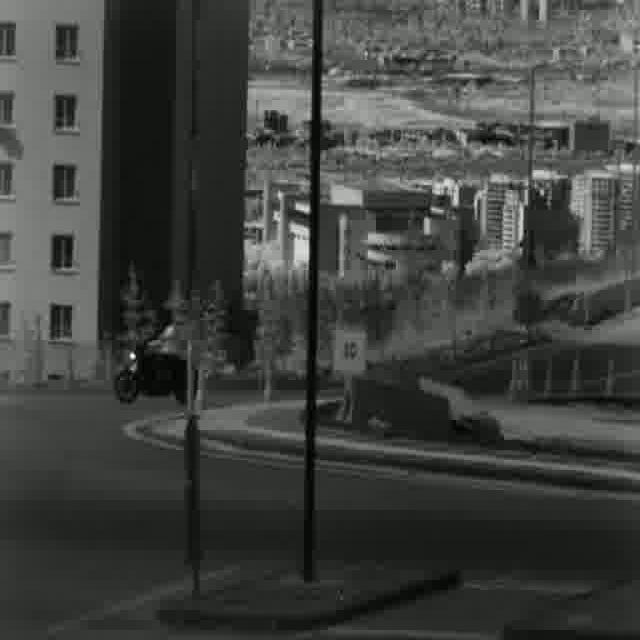Motorcycle: (102, 303, 200, 405)
